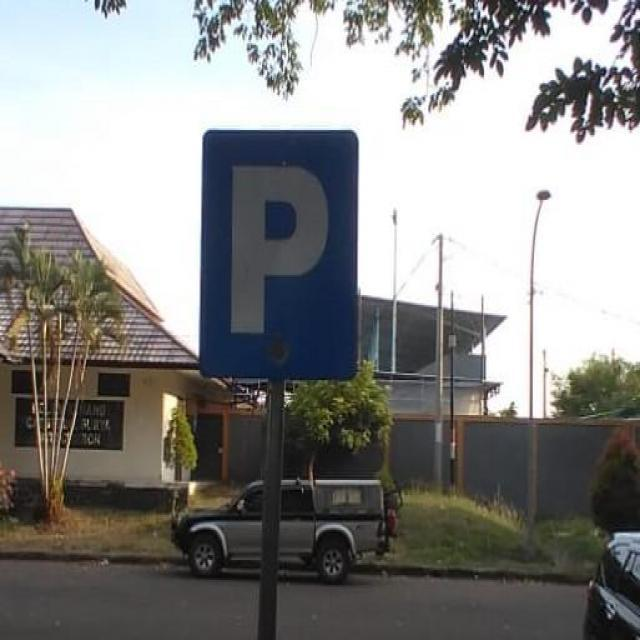traffic sign: (200, 125, 358, 384)
